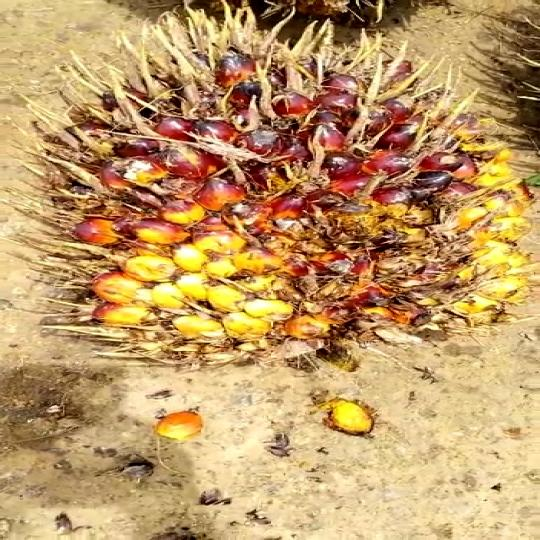masak: (47, 29, 540, 373)
